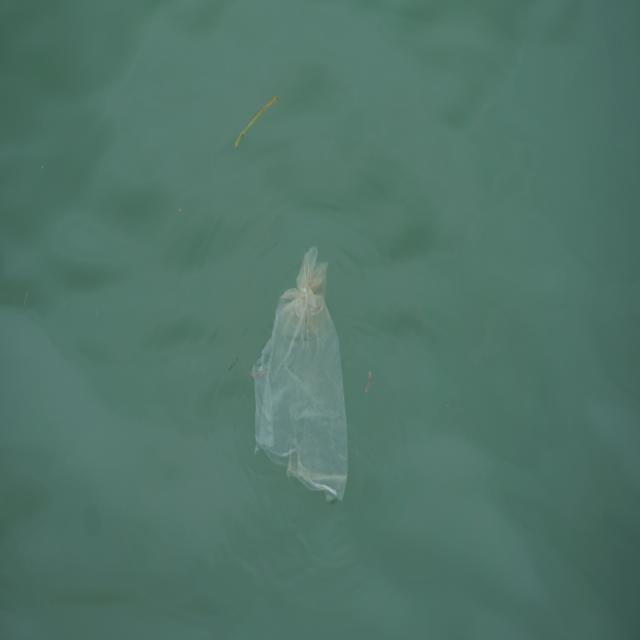Kantong Plastik: (248, 241, 358, 511)
